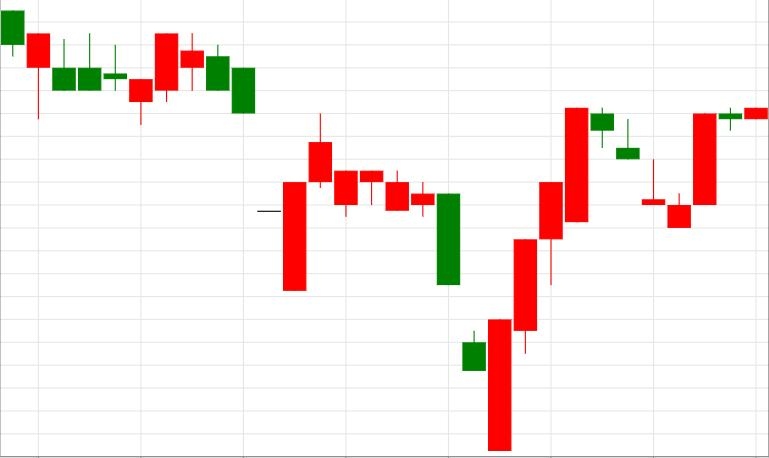bullish_engulfing_rise: (309, 112, 511, 451)
